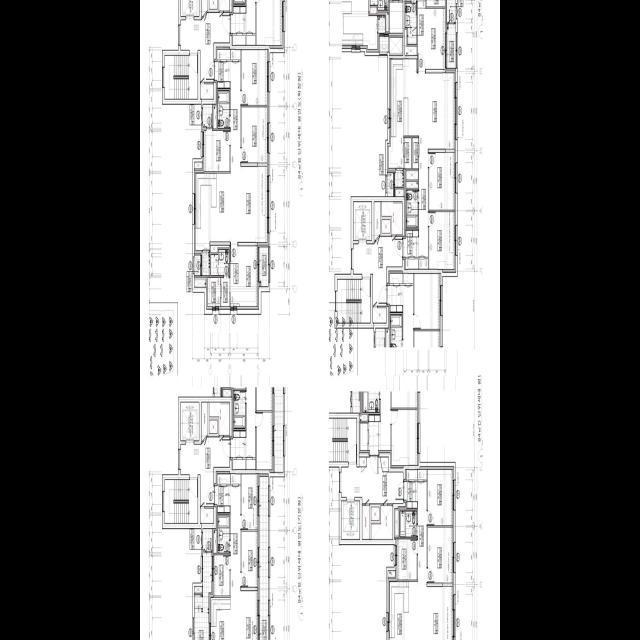background: (140, 0, 500, 640)
space_balconi: (194, 552, 211, 640), (260, 476, 268, 640), (446, 23, 456, 68), (260, 246, 268, 286)
space_bedroom: (230, 245, 257, 306), (418, 8, 445, 69), (429, 211, 455, 268), (429, 152, 455, 209), (428, 469, 453, 525), (428, 527, 453, 582), (242, 107, 267, 162), (242, 49, 267, 104), (204, 130, 230, 171), (242, 473, 258, 529), (242, 531, 257, 587), (397, 539, 417, 579), (214, 554, 230, 595)
space_dressroom: (208, 277, 230, 306)
space_elevator: (353, 201, 372, 239), (342, 500, 360, 539), (181, 402, 199, 440), (181, 0, 199, 16)
space_elevator_hall: (181, 436, 230, 506), (181, 12, 230, 81), (354, 236, 402, 306), (342, 457, 403, 503)
space_front: (215, 49, 230, 88), (215, 474, 230, 512), (403, 229, 418, 256), (404, 481, 418, 508)
space_kitchen: (196, 173, 230, 249), (389, 581, 418, 640), (389, 59, 403, 167), (211, 597, 231, 640)
space_living_room: (403, 58, 455, 256), (230, 49, 267, 242), (418, 481, 453, 640), (231, 473, 257, 640)
space_other: (371, 505, 393, 539), (382, 201, 402, 234), (209, 402, 229, 434), (405, 29, 417, 55), (362, 505, 370, 539), (374, 201, 380, 241), (202, 402, 208, 441), (404, 137, 411, 168), (200, 83, 214, 98), (203, 104, 212, 126), (203, 528, 212, 550), (200, 508, 214, 522), (373, 307, 386, 322), (447, 0, 456, 21), (412, 137, 418, 168), (202, 252, 210, 275), (395, 170, 403, 186), (211, 245, 229, 252), (406, 258, 418, 268), (209, 420, 218, 433), (382, 219, 390, 233), (380, 457, 388, 471), (406, 170, 418, 179), (371, 507, 379, 520), (219, 0, 229, 10), (395, 510, 399, 535), (407, 469, 417, 479), (202, 0, 208, 16), (418, 469, 427, 479), (406, 181, 418, 188), (419, 259, 428, 268), (195, 279, 206, 286), (359, 457, 367, 466), (214, 530, 217, 552), (214, 106, 217, 128), (209, 0, 217, 8), (396, 189, 404, 196), (388, 570, 395, 577), (194, 162, 202, 168), (195, 586, 202, 592)
space_outdoor_room: (387, 173, 393, 196), (194, 255, 200, 275)
space_staircase: (337, 278, 371, 322), (165, 479, 198, 523), (165, 54, 198, 98), (324, 418, 357, 461)
space_toilet: (405, 3, 417, 43), (218, 514, 230, 552), (406, 189, 418, 227), (211, 249, 229, 274), (400, 511, 417, 536), (218, 90, 229, 127)
